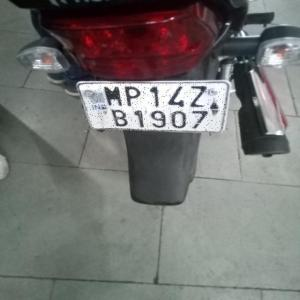Plate: (84, 83, 227, 132)
